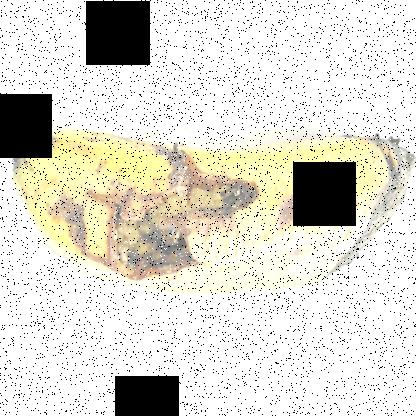rotten: (55, 115, 277, 318), (312, 87, 415, 303)
